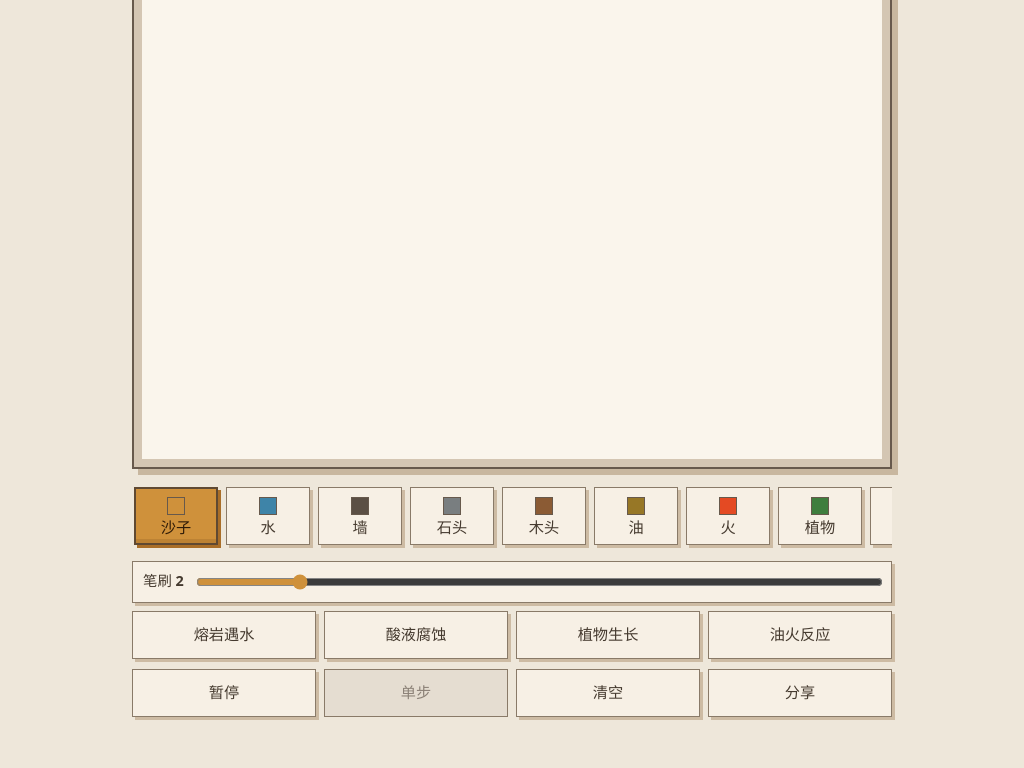
App › shows guidance for the selected example scene
(page scrolled)
Step 1. Click the button "熔岩遇水" → [224, 635], box [132,611,316,659]
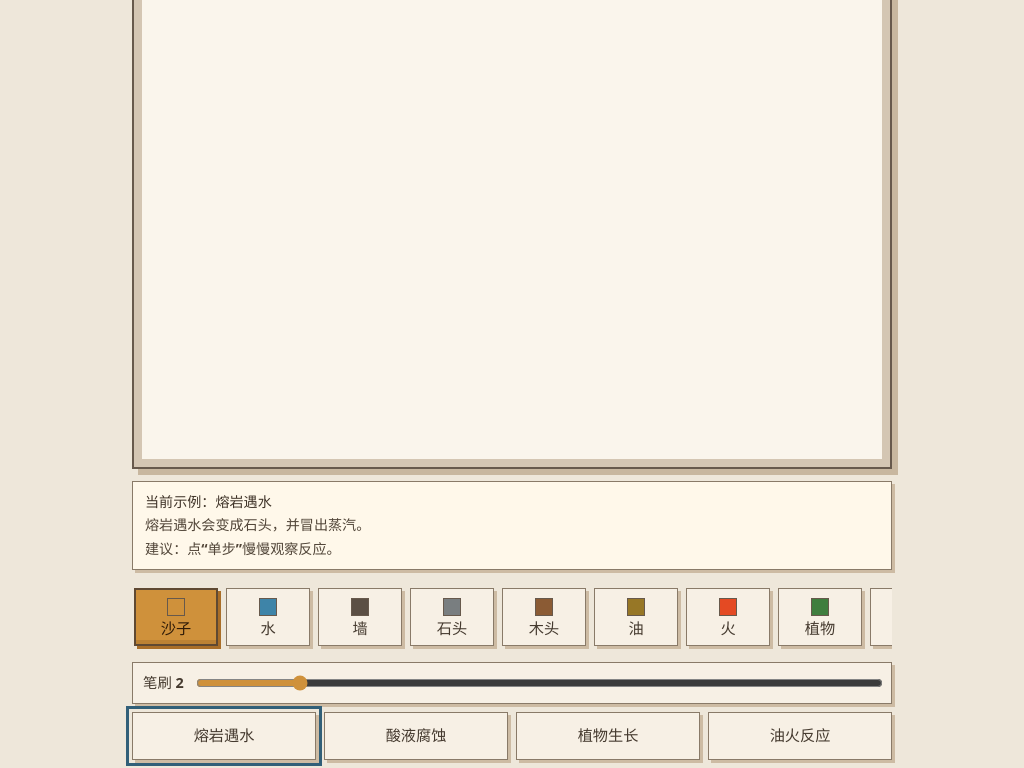
expect the text "当前示例：熔岩遇水" is shown: met, box [145,492,272,511]
expect the text "熔岩遇水会变成石头，并冒出蒸汽。" is shown: met, box [145,515,370,534]
expect the text "建议：点“单步”慢慢观察反应。" is shown: met, box [145,539,340,558]
